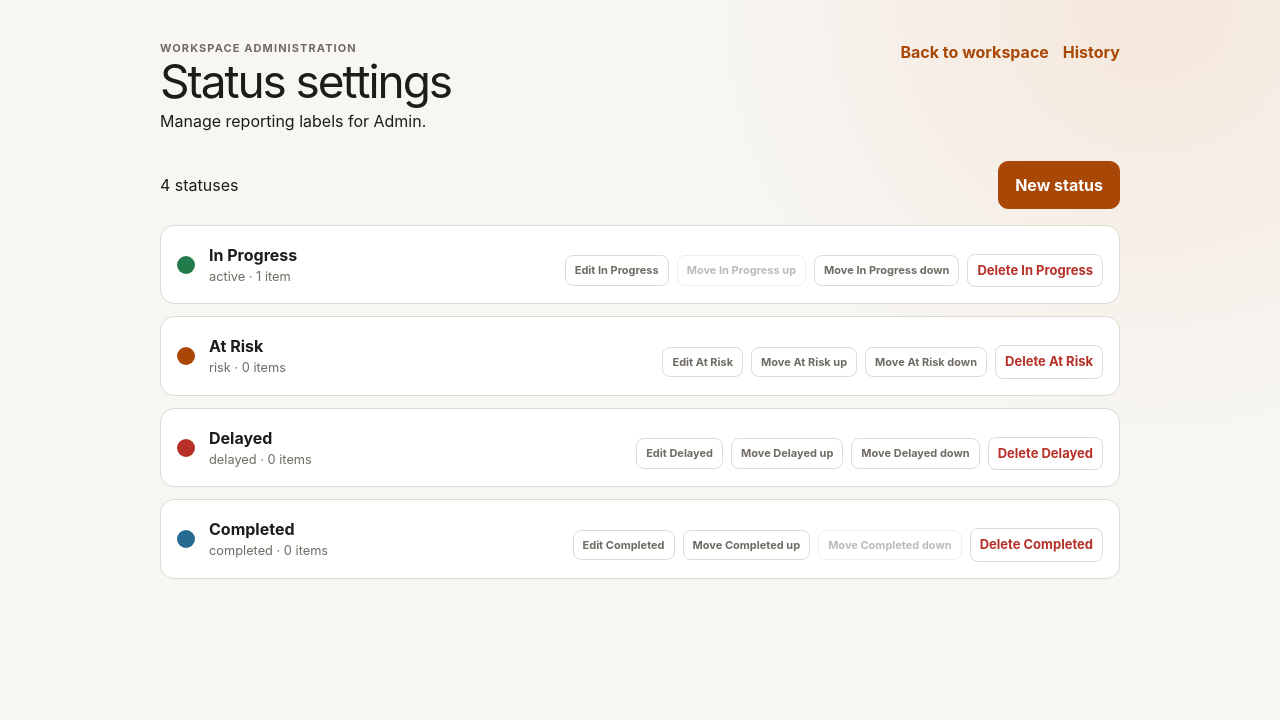
StatusManager › requires fresh confirmation after a stale status delete
This screenshot has width=1280, height=720.
Click the button "Delete In Progress" at (1035, 271), box [967, 254, 1103, 287]
(page scrolled)
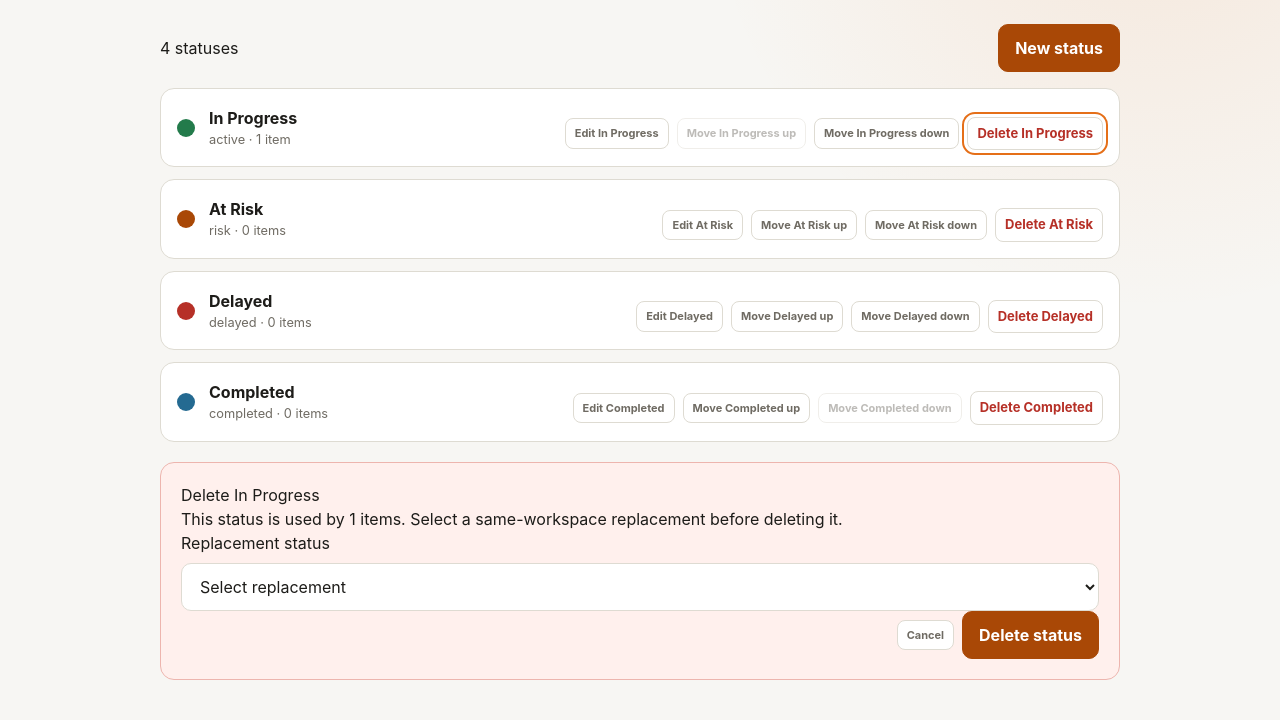
Select "At Risk" in the dropdown labelled "Replacement status" at (640, 587), box [181, 563, 1099, 611]
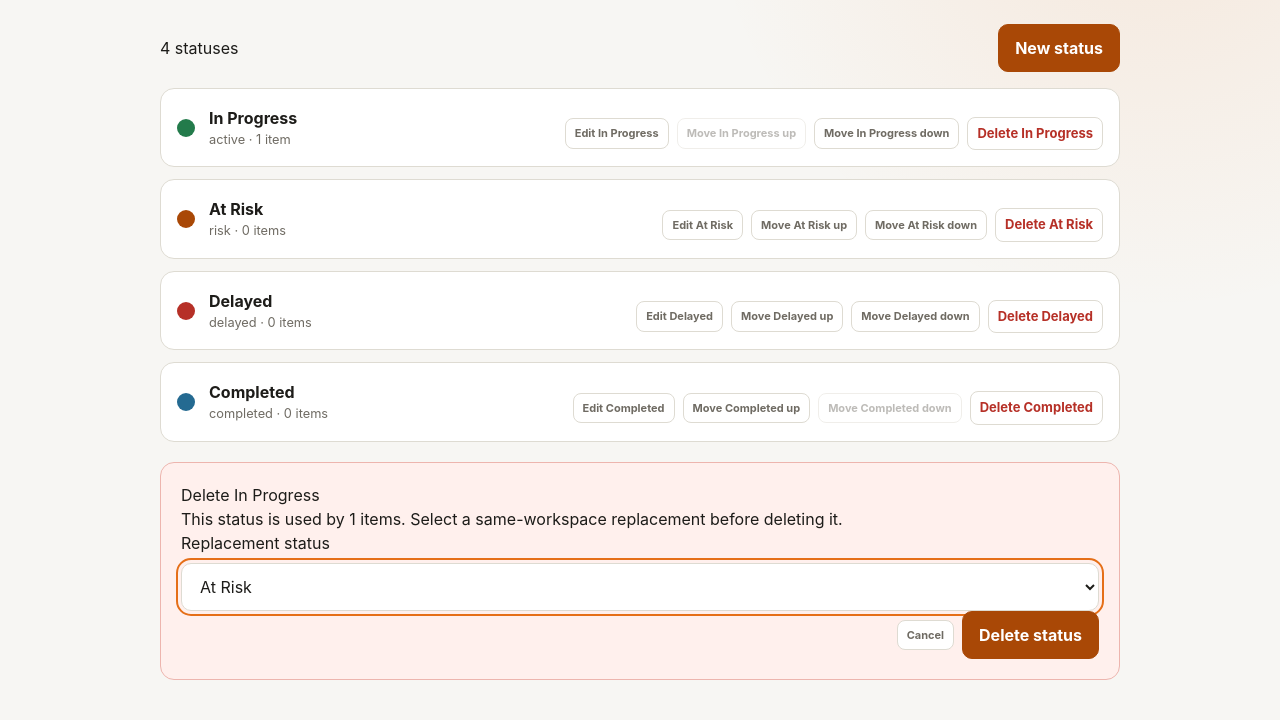
Click the button "Delete status" at (1030, 635), box [962, 611, 1099, 659]
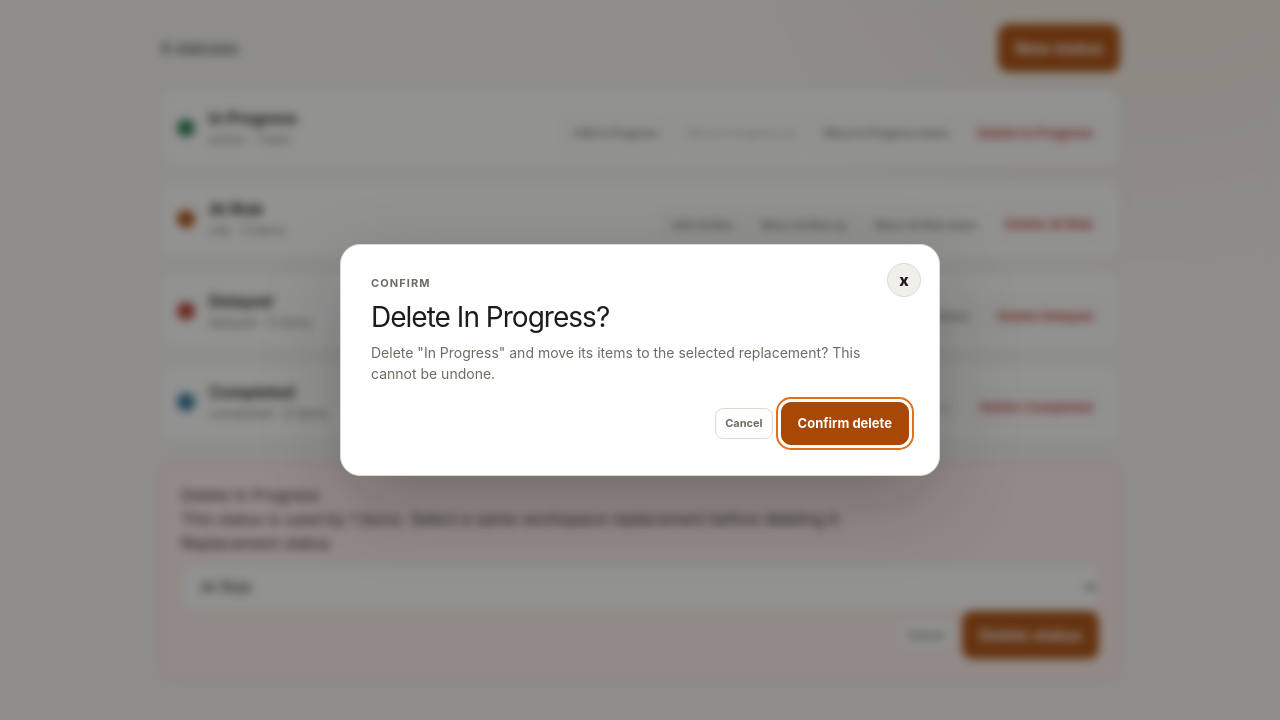
Click the button "Confirm delete" at (845, 424), box [781, 402, 909, 445]
(page scrolled)
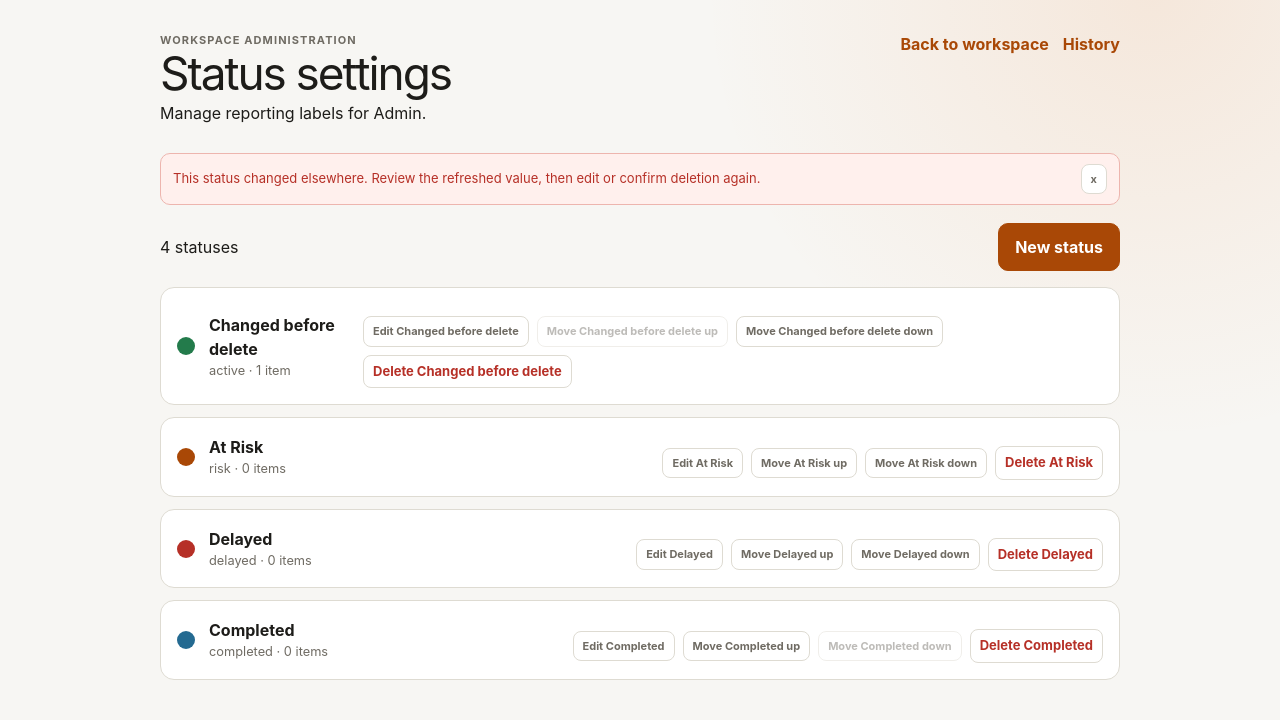
Now the text "Changed before delete" is shown, box [209, 313, 349, 361]
Now the text labelled "Replacement status" is gone
